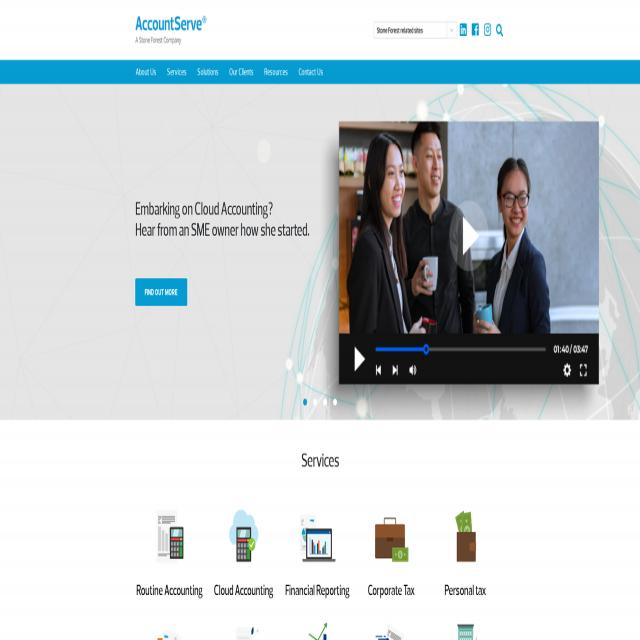button: (340, 121, 600, 385), (450, 200, 489, 274), (135, 10, 207, 50), (150, 500, 190, 572), (223, 500, 263, 572), (297, 500, 337, 572), (371, 500, 411, 572), (445, 500, 485, 572), (135, 278, 188, 306), (344, 338, 370, 381), (293, 60, 329, 84), (224, 60, 258, 84), (259, 60, 293, 84), (192, 62, 224, 84), (161, 61, 191, 83), (132, 61, 160, 84), (576, 361, 591, 381), (560, 360, 573, 381), (388, 361, 402, 379), (406, 362, 420, 380), (374, 361, 384, 379), (458, 21, 468, 38), (470, 21, 480, 38), (483, 21, 493, 38), (495, 21, 504, 38), (423, 343, 429, 357), (302, 397, 308, 408), (312, 397, 318, 408), (322, 397, 328, 408), (332, 397, 338, 408)
field: (374, 22, 457, 38)
